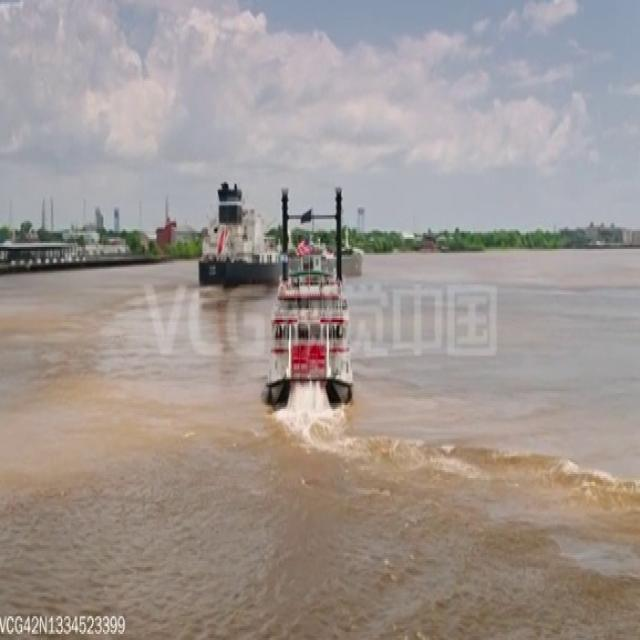cargoship: (198, 176, 359, 287)
passenger ship: (268, 189, 354, 411)
